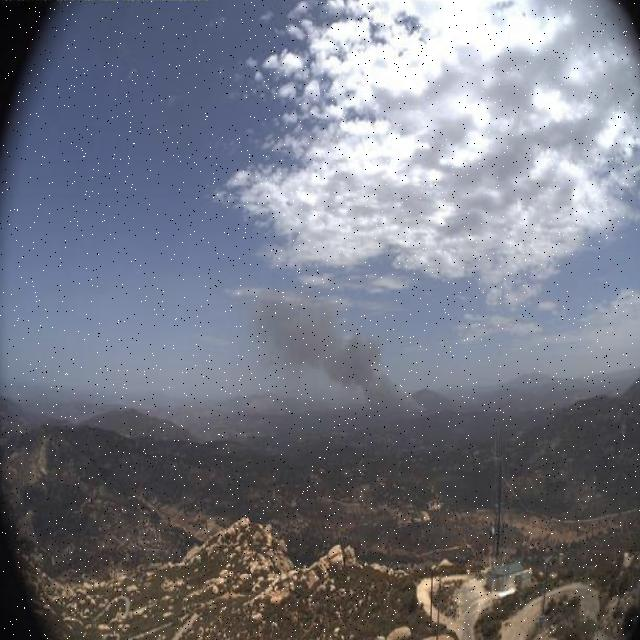smoke: (231, 277, 431, 432)
